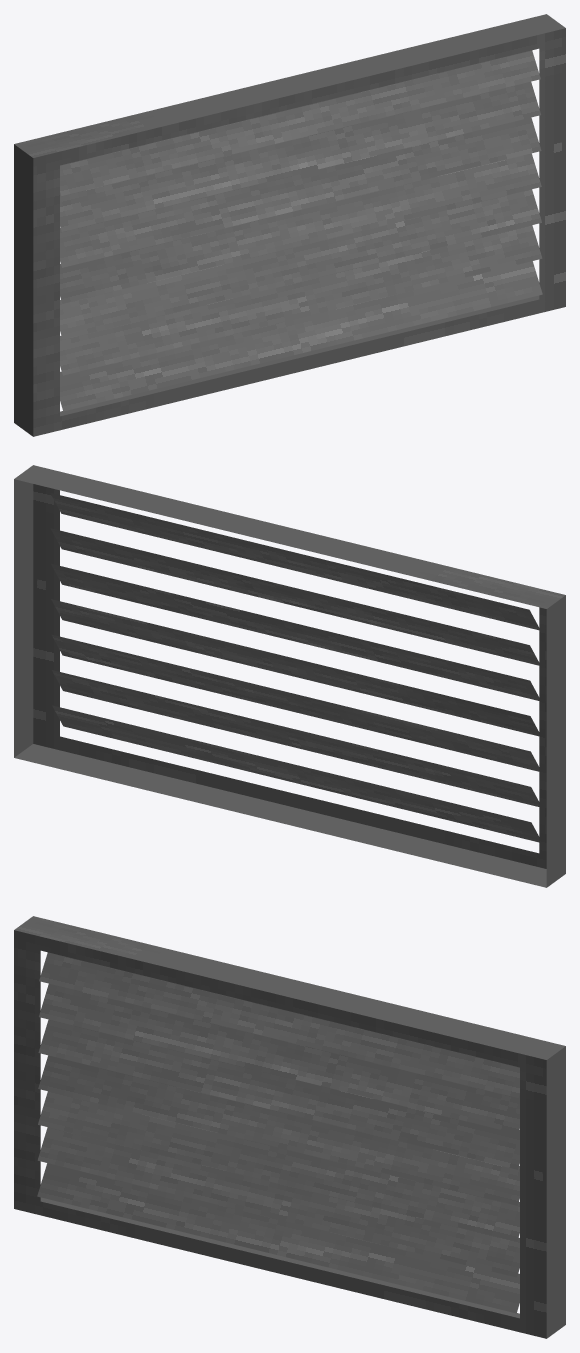
The model's file is vent_open-MCL7B6ZA.gltf.
3 views of the same model, one above another, from view 1: azimuth 30°, elevation 25°; view 2: azimuth 150°, elevation 25°; view 3: azimuth 330°, elevation 25° (orthographic).
Visible parts, largest first — view 1: blade (×7), vent; view 2: blade (×7), vent; view 3: blade (×7), vent.
Part boxes in pixels (x1=…): blade (×7): x1=60, y1=50, x2=542, y2=411; vent: x1=14, y1=14, x2=565, y2=436; blade (×7): x1=50, y1=493, x2=539, y2=842; vent: x1=14, y1=465, x2=565, y2=887; blade (×7): x1=37, y1=952, x2=519, y2=1313; vent: x1=14, y1=916, x2=565, y2=1338.
Size of the model in its own units: 0.5 by 0.25 by 0.0369.
Materials: 1 (1 with a texture image).
